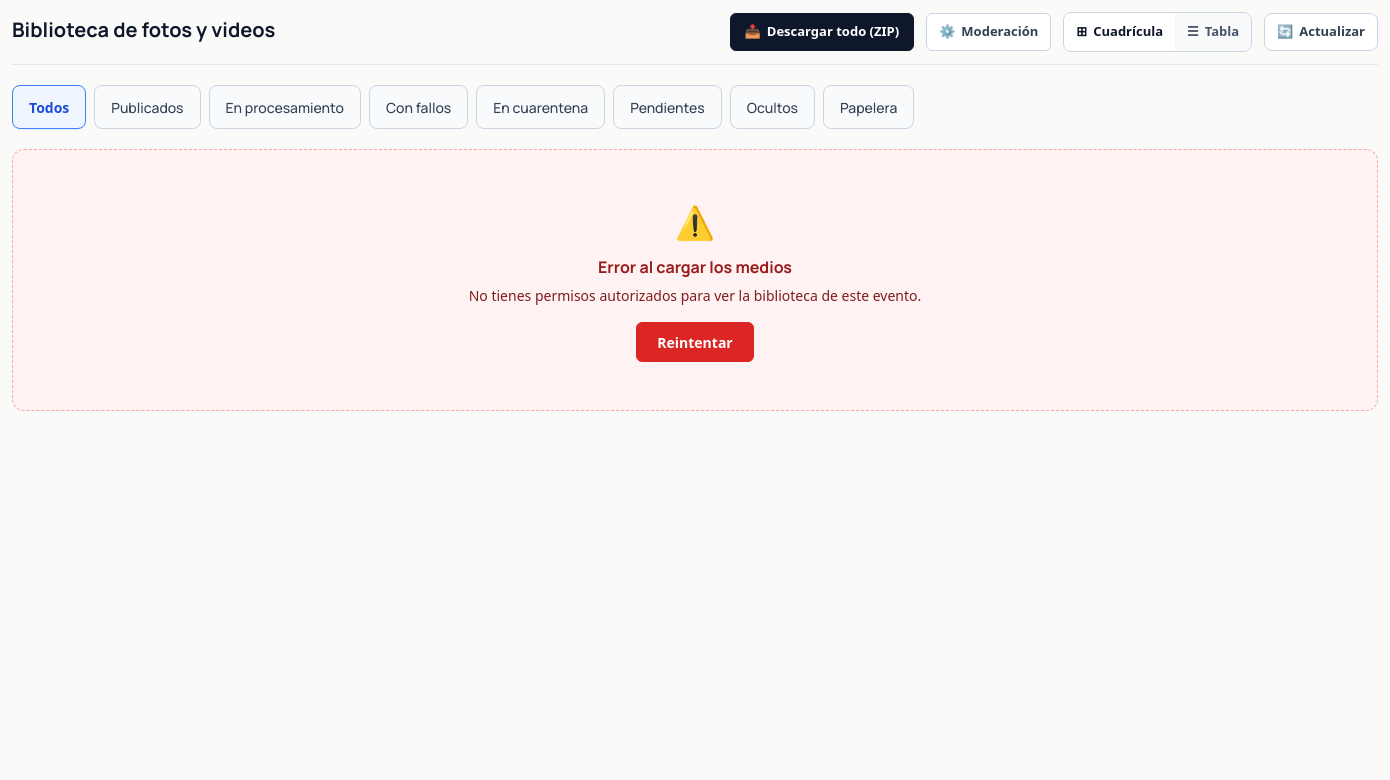
OrganizerMediaLibraryComponent & Media Integration (EL-TK-100) › Escenario 5: Maneja denegación de acceso (ACCESS_DENIED) y errores de conexión con opción de reintento
expect the message with class "error-state" is shown: met, box top-left (12, 149), bottom-right (1378, 411)
Click the button with class "btn-retry".
click(695, 342)  # box top-left (636, 322), bottom-right (754, 362)
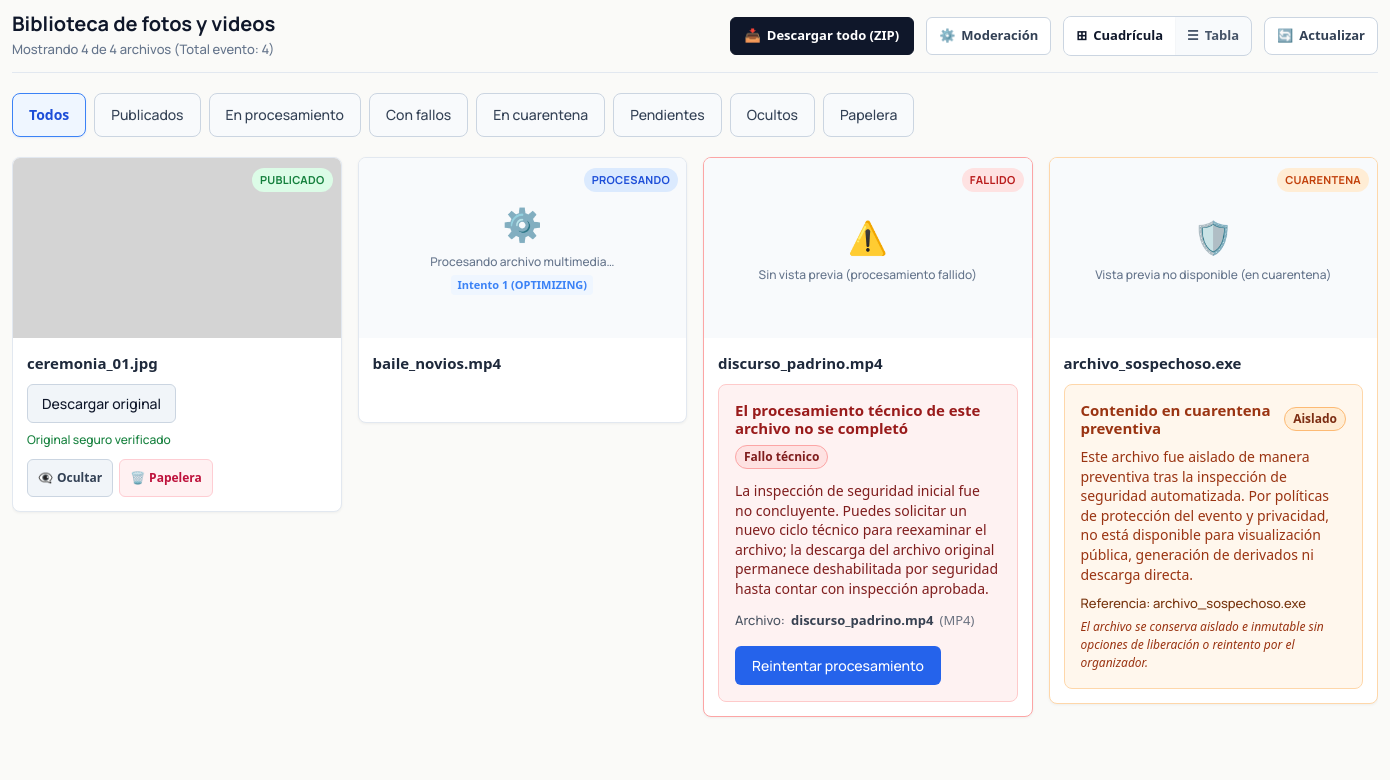
expect the message with class "error-state" is gone: met
